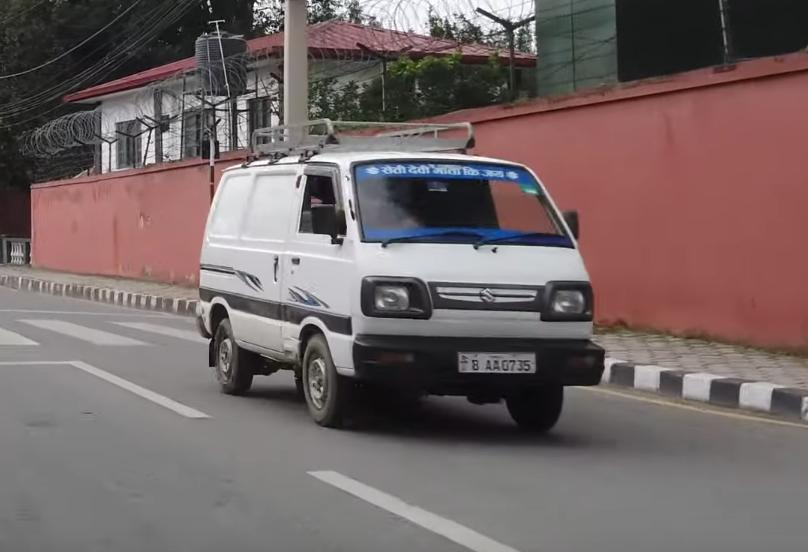van: (172, 115, 620, 443)
